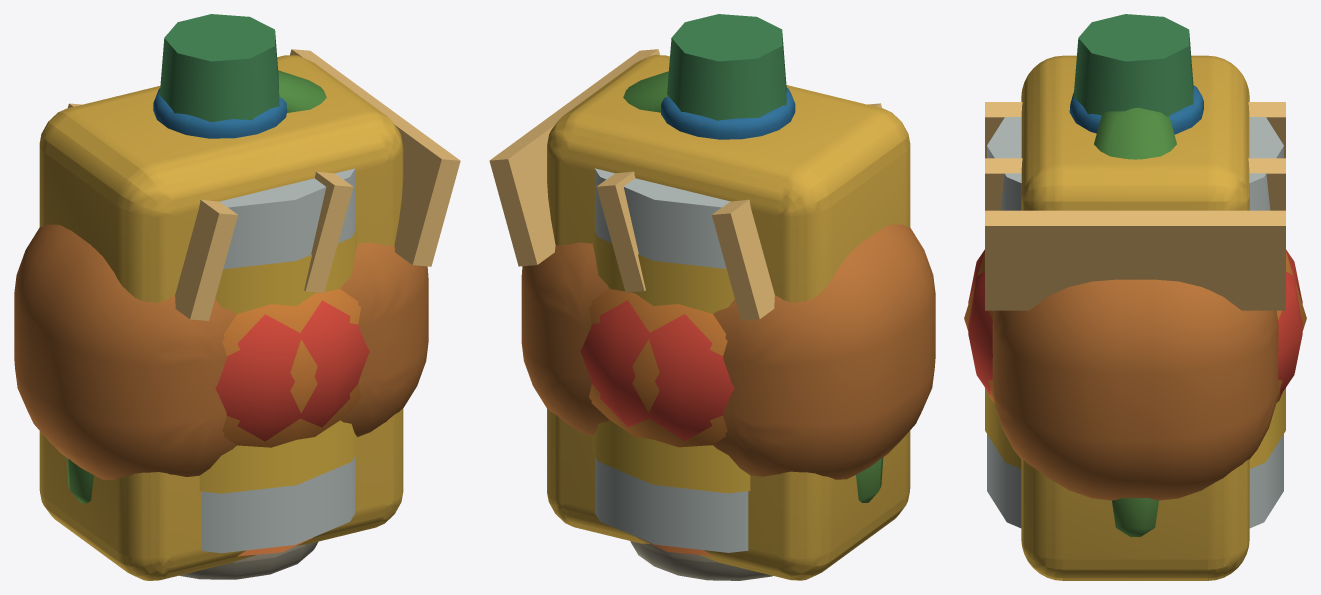
Rendered from retail-products.glb.
The picture shows the model from 3 angles, left to right: view 1: azimuth 30°, elevation 25°; view 2: azimuth 150°, elevation 25°; view 3: azimuth 270°, elevation 25°; orthographic projection.
Visible parts, largest first — view 1: n4, n12, n61, n46, n62, n57, n15, n49, n26, n13, n14, n43 (+1 smaller); view 2: n4, n12, n61, n46, n62, n57, n15, n49, n26, n13, n14, n43 (+1 smaller); view 3: n12, n4, n15, n57, n61, n46, n43, n14, n62, n13, n20, n26 (+1 smaller).
Part boxes in pixels (bbox=[...]): n4: bbox=[39, 55, 403, 580]; n12: bbox=[14, 224, 428, 479]; n61: bbox=[201, 168, 355, 553]; n46: bbox=[215, 300, 369, 441]; n62: bbox=[199, 229, 357, 493]; n57: bbox=[159, 14, 279, 122]; n15: bbox=[290, 49, 460, 266]; n49: bbox=[222, 289, 360, 447]; n26: bbox=[153, 88, 317, 579]; n13: bbox=[68, 103, 237, 320]; n14: bbox=[304, 171, 353, 292]; n43: bbox=[278, 70, 326, 112]; n4: bbox=[547, 55, 910, 580]; n12: bbox=[521, 224, 935, 479]; n61: bbox=[594, 168, 748, 552]; n46: bbox=[580, 300, 734, 440]; n62: bbox=[592, 229, 750, 493]; n57: bbox=[667, 14, 786, 120]; n15: bbox=[489, 49, 659, 266]; n49: bbox=[589, 289, 727, 447]; n26: bbox=[630, 87, 795, 580]; n13: bbox=[712, 103, 881, 320]; n14: bbox=[596, 171, 645, 292]; n43: bbox=[623, 71, 668, 112]; n12: bbox=[992, 279, 1278, 500]; n4: bbox=[1021, 55, 1249, 580]; n15: bbox=[985, 210, 1285, 310]; n57: bbox=[1073, 14, 1193, 116]; n61: bbox=[987, 117, 1283, 528]; n46: bbox=[968, 249, 1302, 395]; n43: bbox=[1094, 107, 1176, 159]; n14: bbox=[985, 158, 1285, 210]; n62: bbox=[985, 388, 1285, 468]; n13: bbox=[985, 102, 1285, 158]; n20: bbox=[1112, 498, 1158, 536]; n26: bbox=[1069, 85, 1203, 134].
Bounding box in the file's own units: 0.22 × 0.2925 × 0.18.
24 materials, 3 textured.
